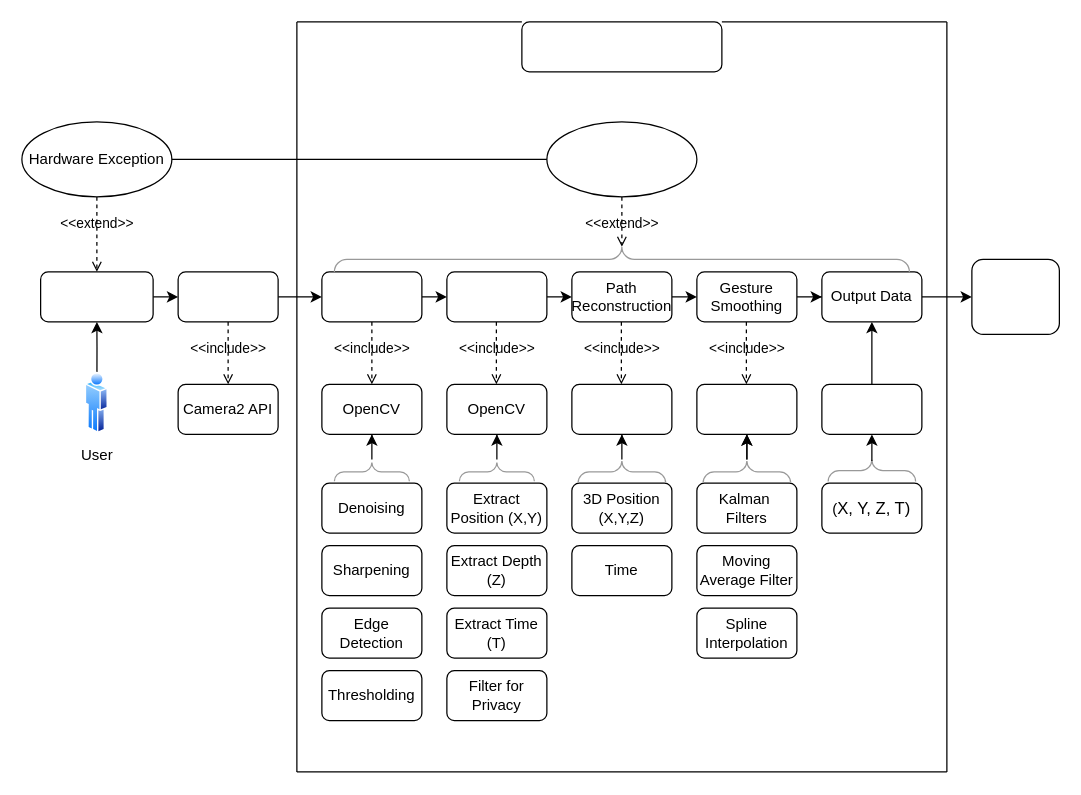
The diagram is 1081 pixels wide and 795 high, and some of its shapes have lost their labels. Here are the shapes that lost their labels. From the top down, the box of each, then its label:
(521, 21, 722, 72): Image Processing Module
(546, 121, 697, 197): Software/Data Exception
(39, 271, 153, 322): Mobile App Module
(177, 271, 278, 322): Input Data (Images)
(321, 271, 422, 322): Pre-processing
(446, 271, 547, 322): Feature Extraction
(971, 258, 1059, 334): Machine Learning Module
(571, 383, 672, 434): NumPy
(696, 383, 797, 434): FilterPy SciPy
(821, 383, 922, 434): Numpy 4D Array
